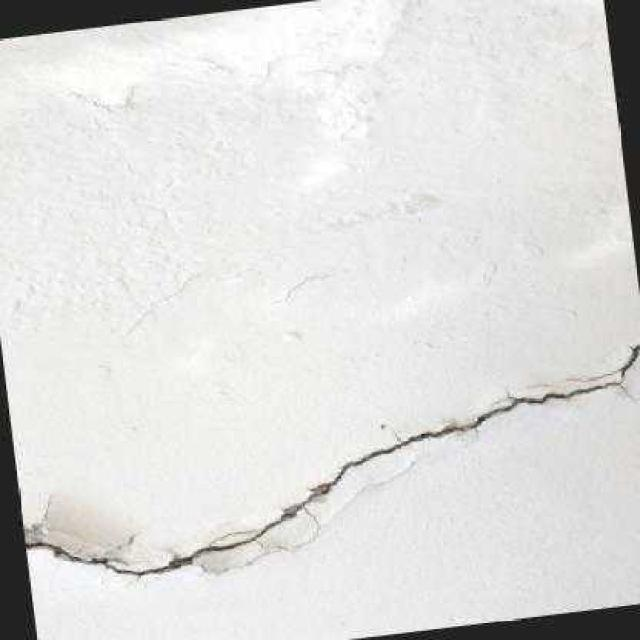D00: (23, 334, 640, 576)
